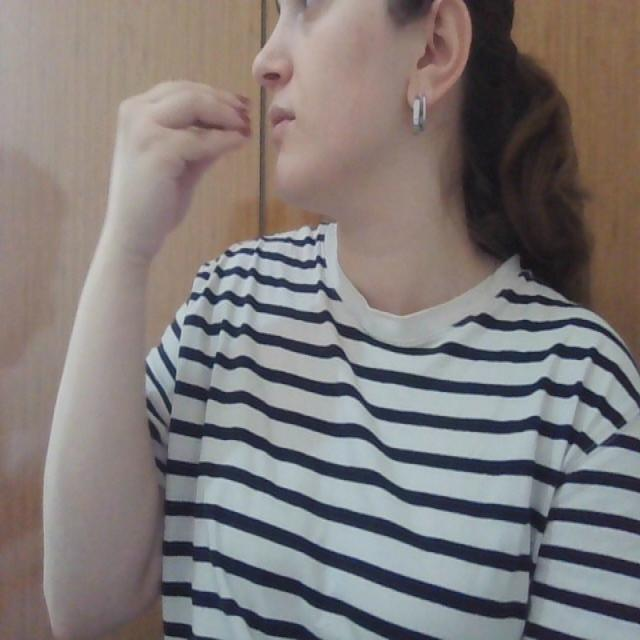Yemek: (100, 72, 312, 160)
